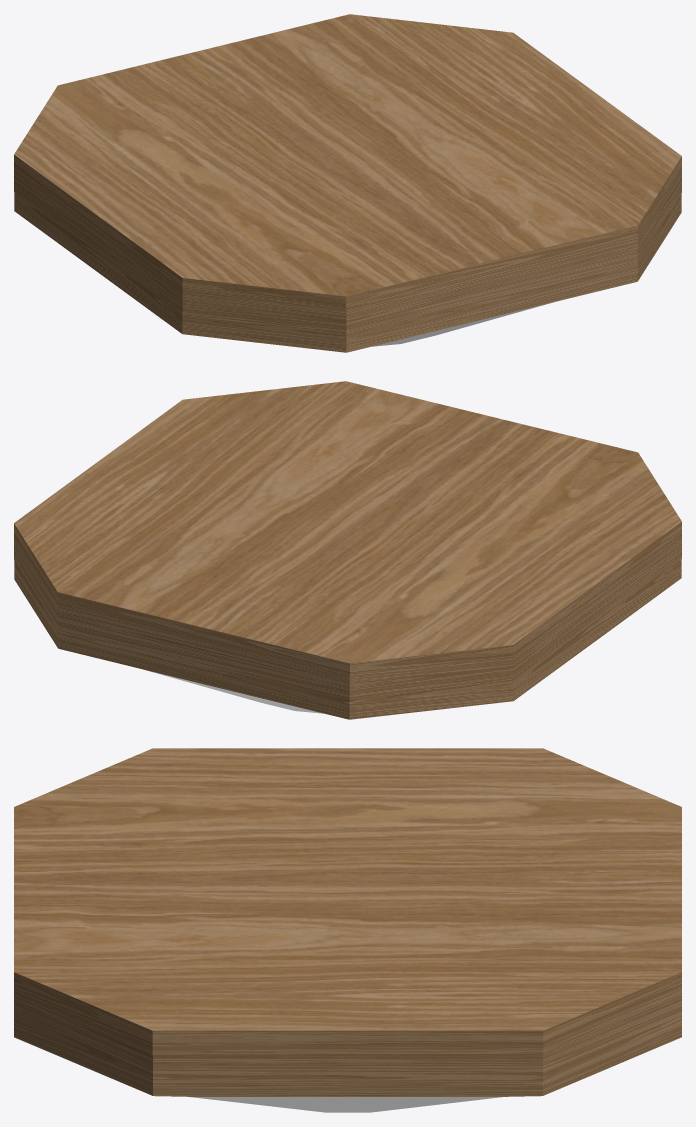
File: Kärpänen_KattoLamppu.fbx
3 views of the same model, one above another, from view 1: azimuth 30°, elevation 25°; view 2: azimuth 150°, elevation 25°; view 3: azimuth 270°, elevation 25° (orthographic). The views are drawn at different scales.
Visible parts, largest first — view 1: Cube.106; view 2: Cube.106; view 3: Cube.106.
Part boxes in pixels (<box>): Cube.106: <box>14,14,681,352</box>; Cube.106: <box>14,381,681,719</box>; Cube.106: <box>14,748,681,1112</box>.
Size of the model in its own units: 200 by 50.86 by 200.
2 materials, 1 textured.
